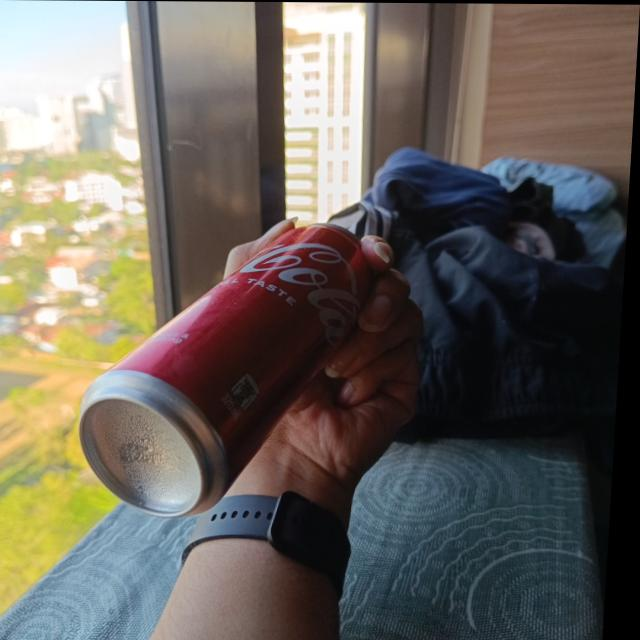coke: (82, 219, 372, 517)
